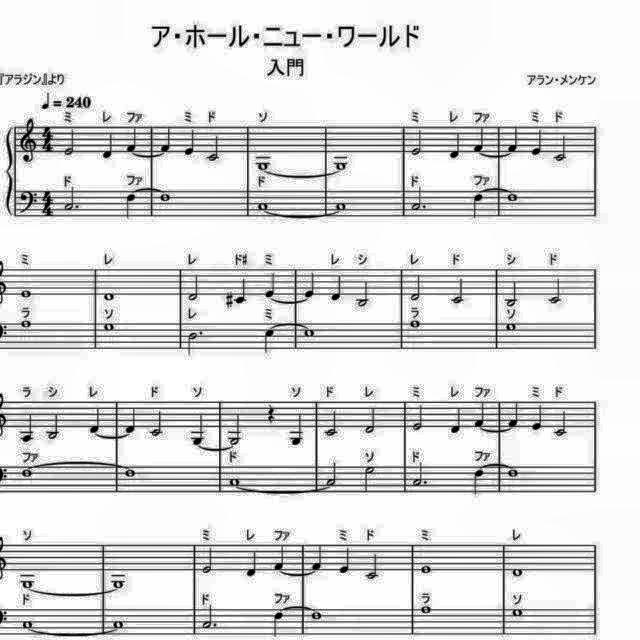Bass-clef: (18, 186, 40, 214)
Diez: (222, 289, 234, 311)
Full-note: (108, 572, 128, 590), (15, 618, 41, 630), (19, 574, 37, 590), (158, 188, 174, 204), (504, 189, 522, 203), (333, 159, 351, 173), (418, 562, 434, 576), (510, 565, 526, 579), (408, 317, 424, 331), (110, 619, 126, 633), (308, 607, 324, 621), (254, 201, 270, 215), (418, 602, 434, 616), (502, 321, 518, 334), (253, 160, 270, 172), (19, 466, 36, 478), (506, 466, 522, 478), (101, 290, 117, 302), (18, 288, 34, 300), (302, 326, 318, 338), (228, 476, 244, 488), (123, 466, 139, 478), (334, 202, 350, 214), (512, 606, 526, 618), (102, 321, 116, 333)
Half-dot: (186, 328, 206, 359), (200, 602, 220, 632), (62, 184, 82, 212), (411, 460, 429, 488), (410, 184, 428, 212)
Half-note: (226, 410, 244, 446), (448, 274, 468, 306), (546, 276, 566, 304), (43, 411, 61, 442), (364, 550, 381, 582), (205, 134, 223, 164), (184, 272, 202, 302), (552, 407, 570, 437), (553, 133, 571, 163), (503, 278, 522, 306), (62, 126, 78, 158), (410, 126, 426, 158), (201, 546, 217, 578), (410, 272, 426, 304), (359, 464, 376, 494), (355, 278, 373, 306), (326, 409, 342, 439), (362, 405, 378, 435), (148, 409, 164, 438), (326, 462, 342, 490), (412, 403, 426, 433)
Quarter-note: (286, 412, 306, 448), (18, 412, 38, 444), (190, 412, 208, 444), (233, 274, 250, 306), (330, 272, 346, 304), (262, 328, 280, 356), (470, 467, 486, 498), (264, 270, 280, 300), (242, 550, 258, 580), (100, 131, 116, 161), (304, 269, 320, 299), (507, 400, 523, 430), (449, 406, 465, 436), (448, 130, 464, 160), (506, 124, 522, 154), (472, 125, 488, 154), (125, 126, 141, 154), (88, 406, 104, 434), (272, 544, 288, 572), (124, 406, 140, 434), (339, 546, 353, 578), (310, 544, 326, 572), (472, 192, 488, 220), (124, 190, 140, 218), (270, 611, 285, 640), (182, 127, 196, 157), (530, 404, 544, 434), (533, 128, 547, 158), (161, 125, 175, 155), (474, 400, 488, 428)
Quarter-rest: (264, 402, 280, 426)
Treble-clef: (17, 116, 38, 164)
